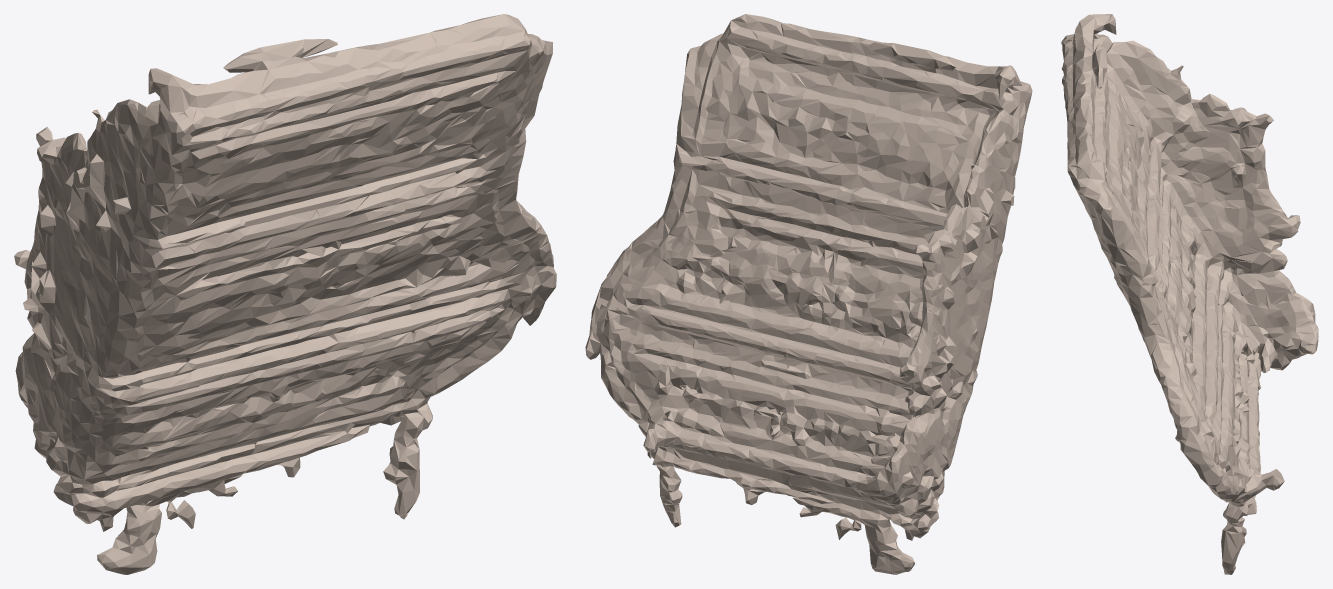
File: improved.glb
The picture shows the model from 3 angles, left to right: view 1: azimuth 30°, elevation 25°; view 2: azimuth 150°, elevation 25°; view 3: azimuth 270°, elevation 25°; orthographic projection. The views are drawn at different scales.
Visible parts, largest first — view 1: world; view 2: world; view 3: world.
Boxes of the visible parts, x1,y1,x2,y2 form: world: [14, 14, 556, 574]; world: [585, 14, 1032, 574]; world: [1061, 14, 1318, 574].
Size of the model in its own units: 1.2 by 1.41 by 0.7413.
